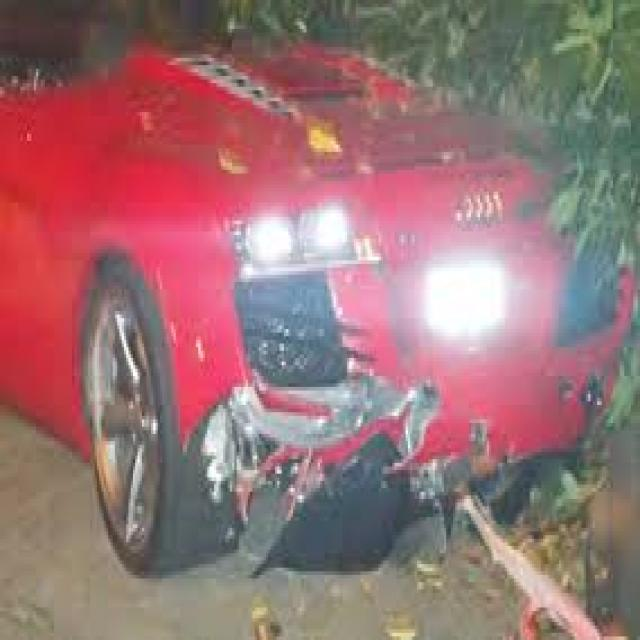moderate: (174, 193, 482, 609)
